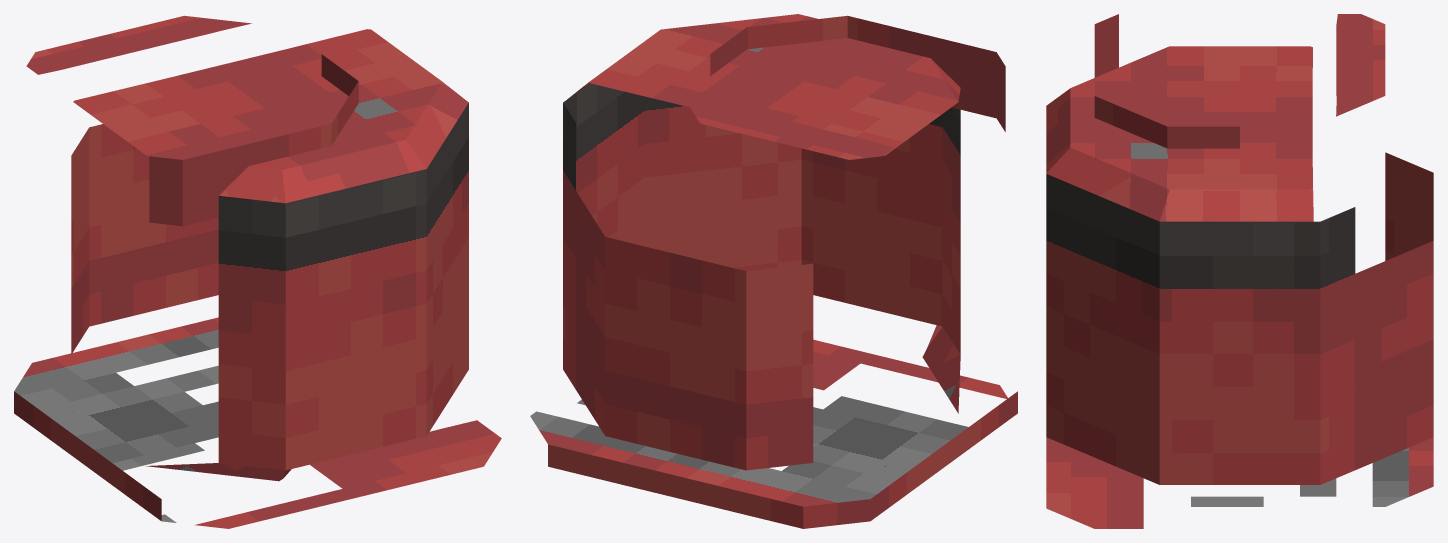
File: air_compressor.obj
3 renders of one model, left to right at view 1: azimuth 30°, elevation 25°; view 2: azimuth 150°, elevation 25°; view 3: azimuth 270°, elevation 25°, orthographic.
Parts seen in each view (by area): view 1: Group_001, Group_003, Group_002; view 2: Group_001, Group_003, Group_002; view 3: Group_001, Group_003, Group_002.
Part boxes in pixels (x1,y1,x2,y2): Group_001: (71, 29, 468, 481); Group_003: (14, 317, 501, 528); Group_002: (26, 15, 358, 226); Group_001: (563, 14, 960, 470); Group_003: (530, 339, 1017, 528); Group_002: (682, 15, 1005, 159); Group_001: (1046, 46, 1433, 484); Group_003: (1046, 437, 1433, 528); Group_002: (1094, 14, 1385, 148).
Size of the model in its own units: 1 by 1 by 1.
